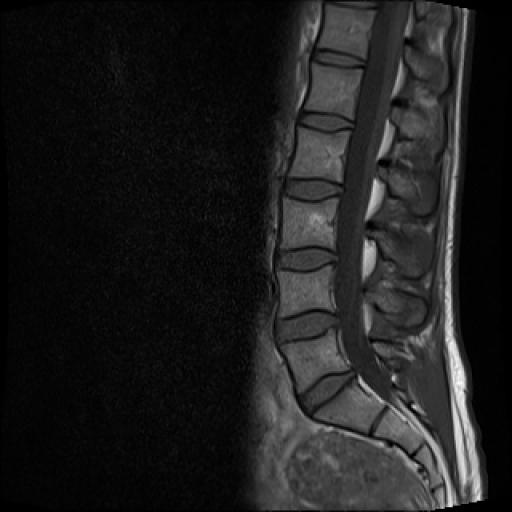L1: (304, 62, 362, 118)
L2: (288, 126, 351, 182)
L3: (280, 197, 339, 250)
L4: (278, 265, 335, 318)
L5: (280, 329, 350, 394)
S1: (314, 379, 385, 434)
